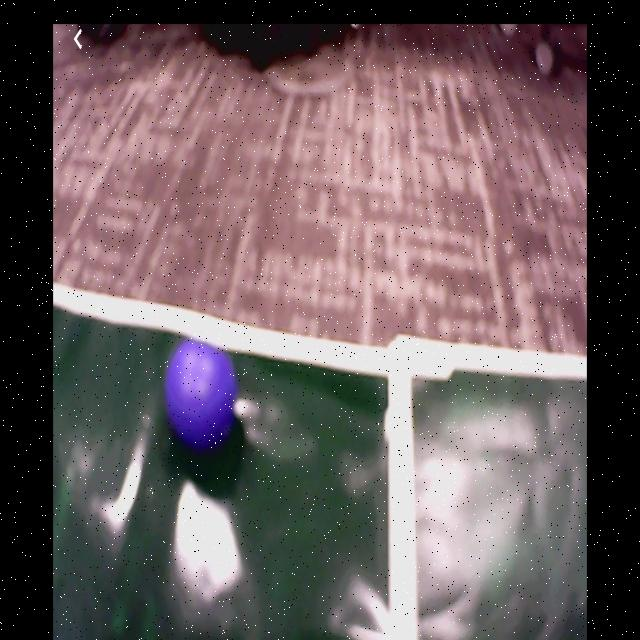ball: (166, 339, 236, 449)
